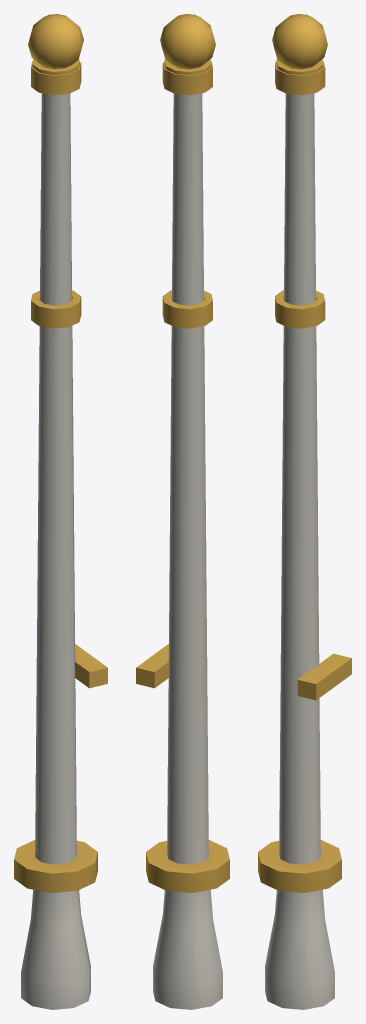
Rendered from stern-flag.glb.
3 renders of one model, left to right at view 1: azimuth 30°, elevation 25°; view 2: azimuth 150°, elevation 25°; view 3: azimuth 330°, elevation 25°, orthographic.
Visible parts, largest first — view 1: pole, fittings; view 2: pole, fittings; view 3: pole, fittings.
Part boxes in pixels (x1=…): pole: x1=21, y1=93, x2=90, y2=1009; fittings: x1=14, y1=14, x2=107, y2=892; pole: x1=153, y1=93, x2=222, y2=1009; fittings: x1=136, y1=14, x2=229, y2=892; pole: x1=265, y1=93, x2=334, y2=1009; fittings: x1=258, y1=14, x2=351, y2=892.
Size of the model in its own units: 0.1141 by 1.51 by 0.12.
